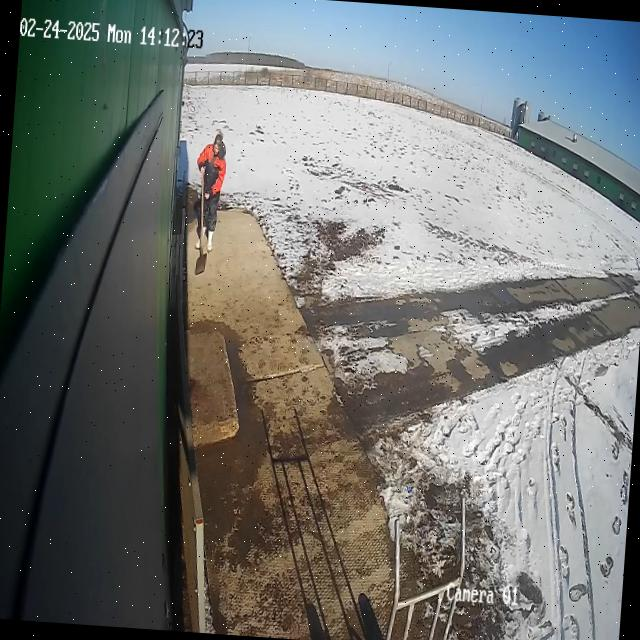Red uniform: (188, 129, 230, 256)
